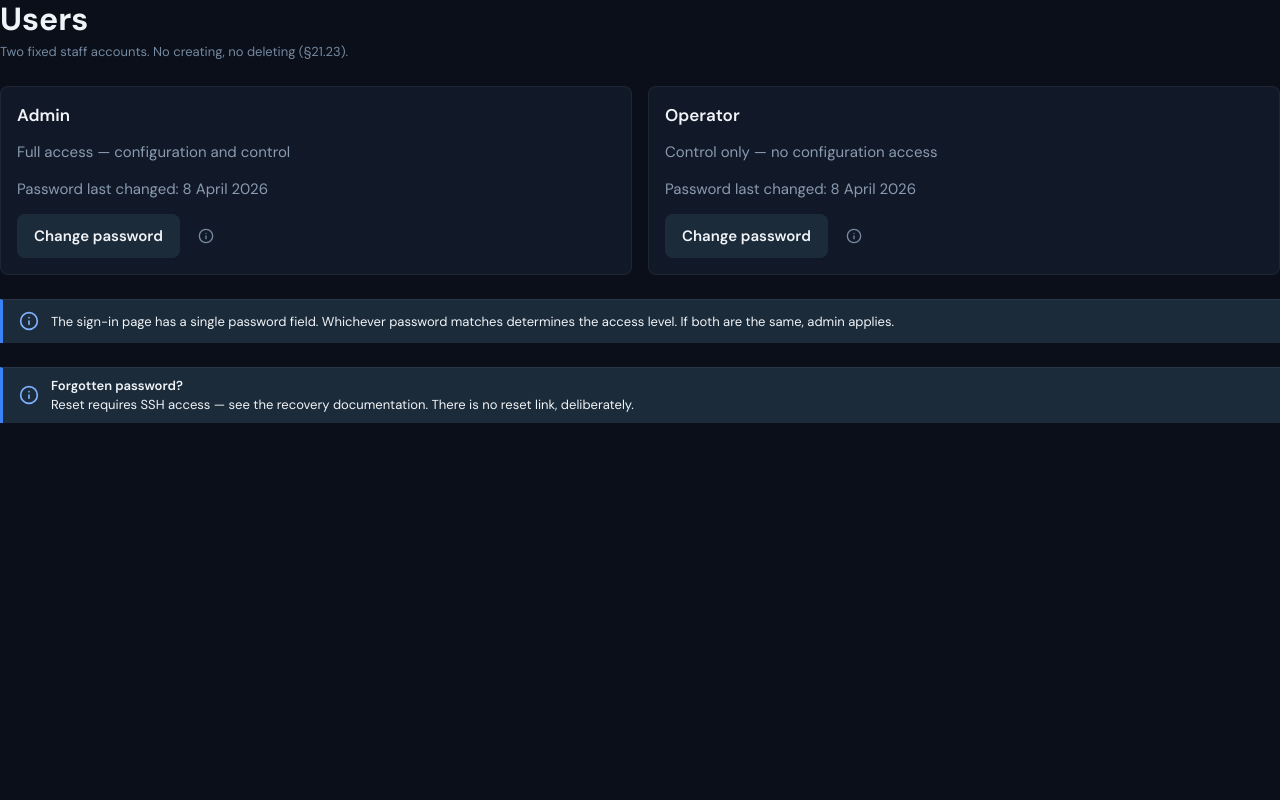
it: Users gives every field and primary action help (spec §19.1) › the admin card's dialog once it opens
The image size is (1280, 800).
Click the button "Change password" below "Full access — configuration and control".
click(98, 236)  # box [17,214,180,258]
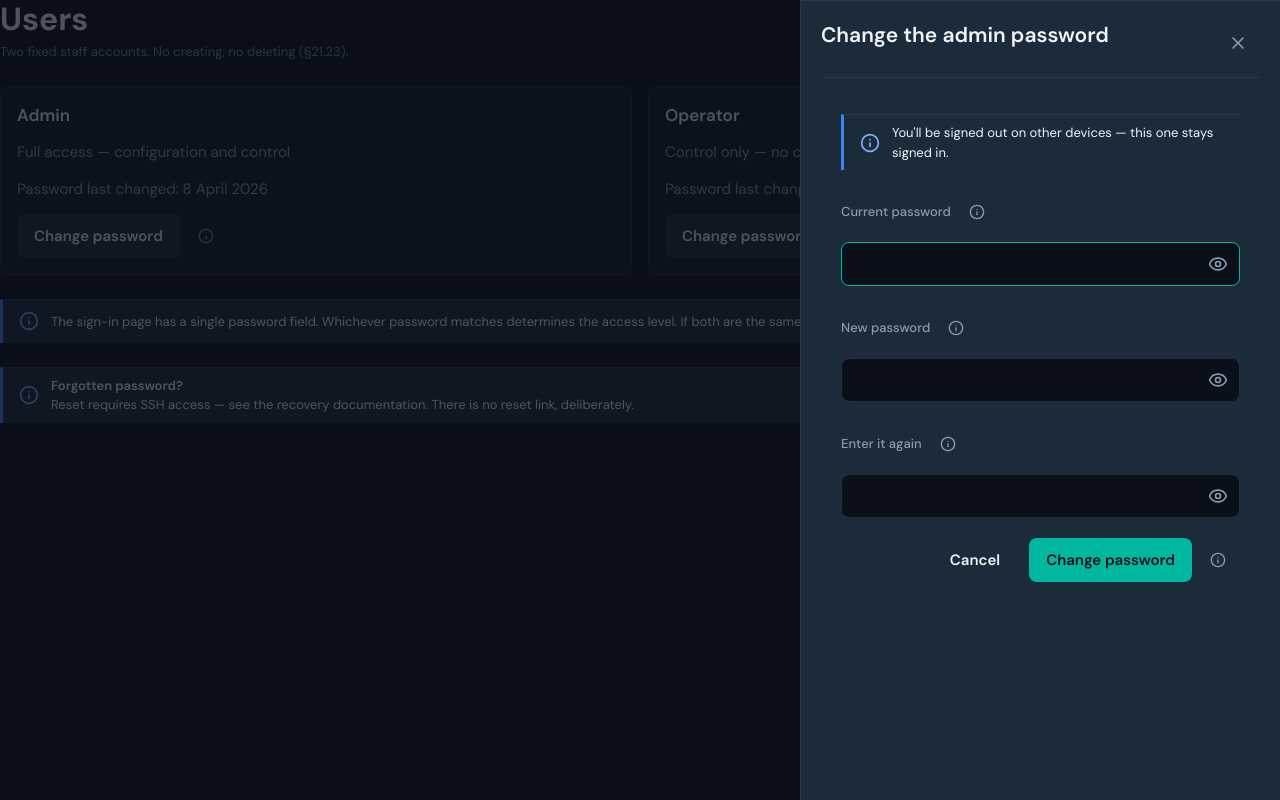
Expected: the heading "Change the admin password" is shown, [821,21,1109,50]
